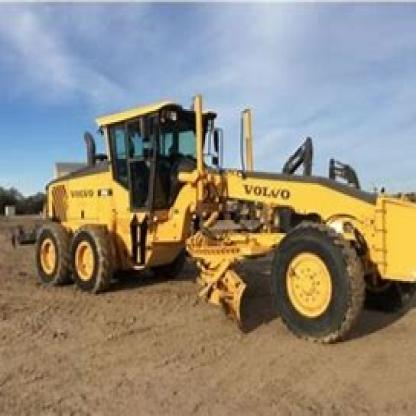bull_dozer/loader/grader: (19, 92, 414, 352)
